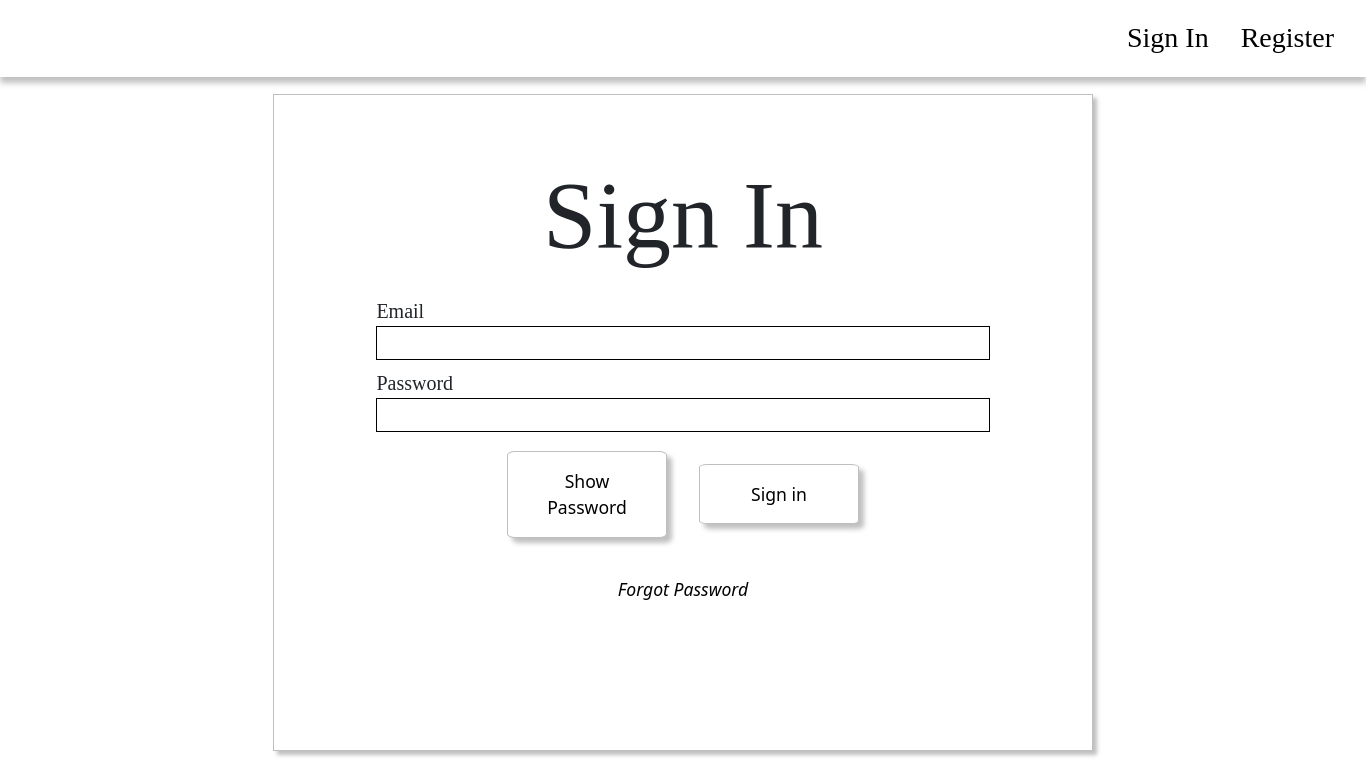
<App /> › Valid Flow 2 => Signing In => Verify That Signing in With A Valid User Takes Us To The Home Page
This screenshot has width=1366, height=768.
Type "test@gmail.com" into the field labelled "Email" at (683, 343), box [376,326,990,360]
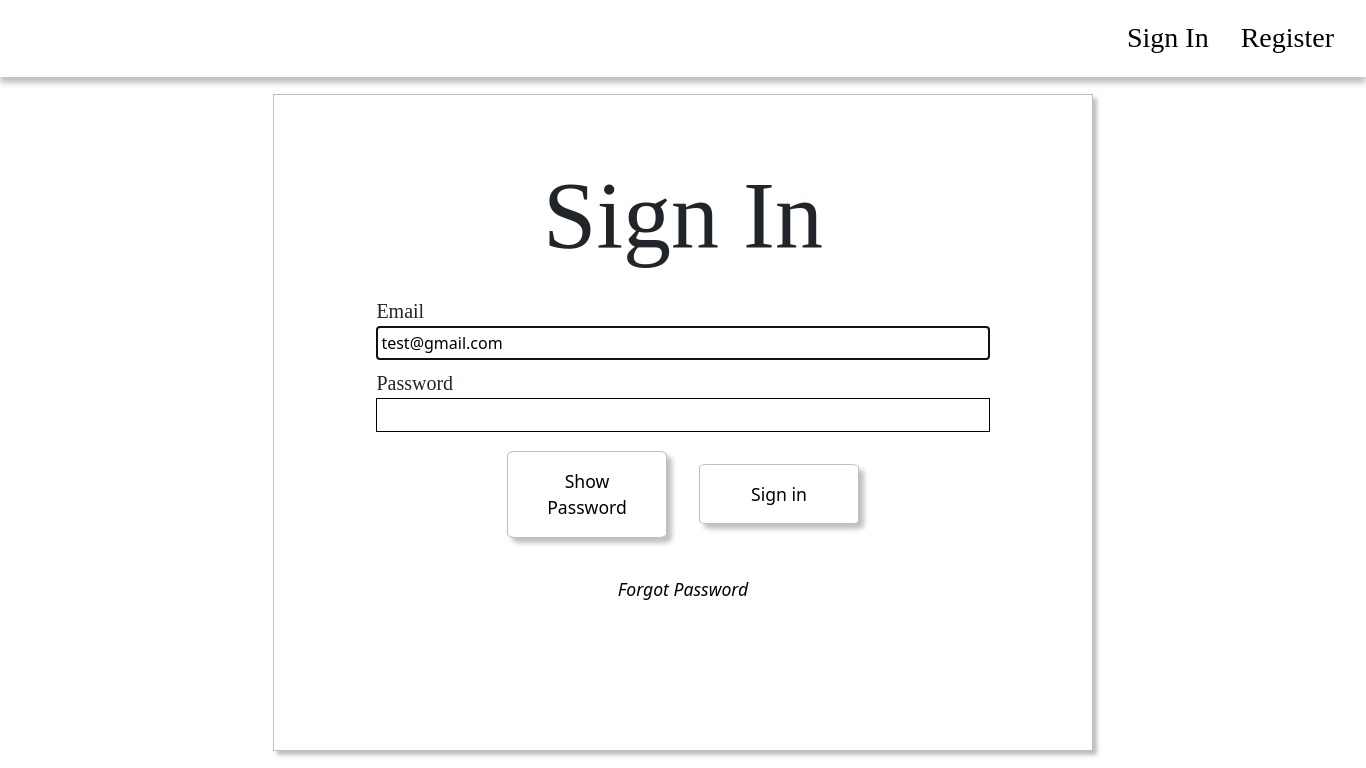
Type "PasswordLong-101!" into the password field at (683, 415), box [376,398,990,432]
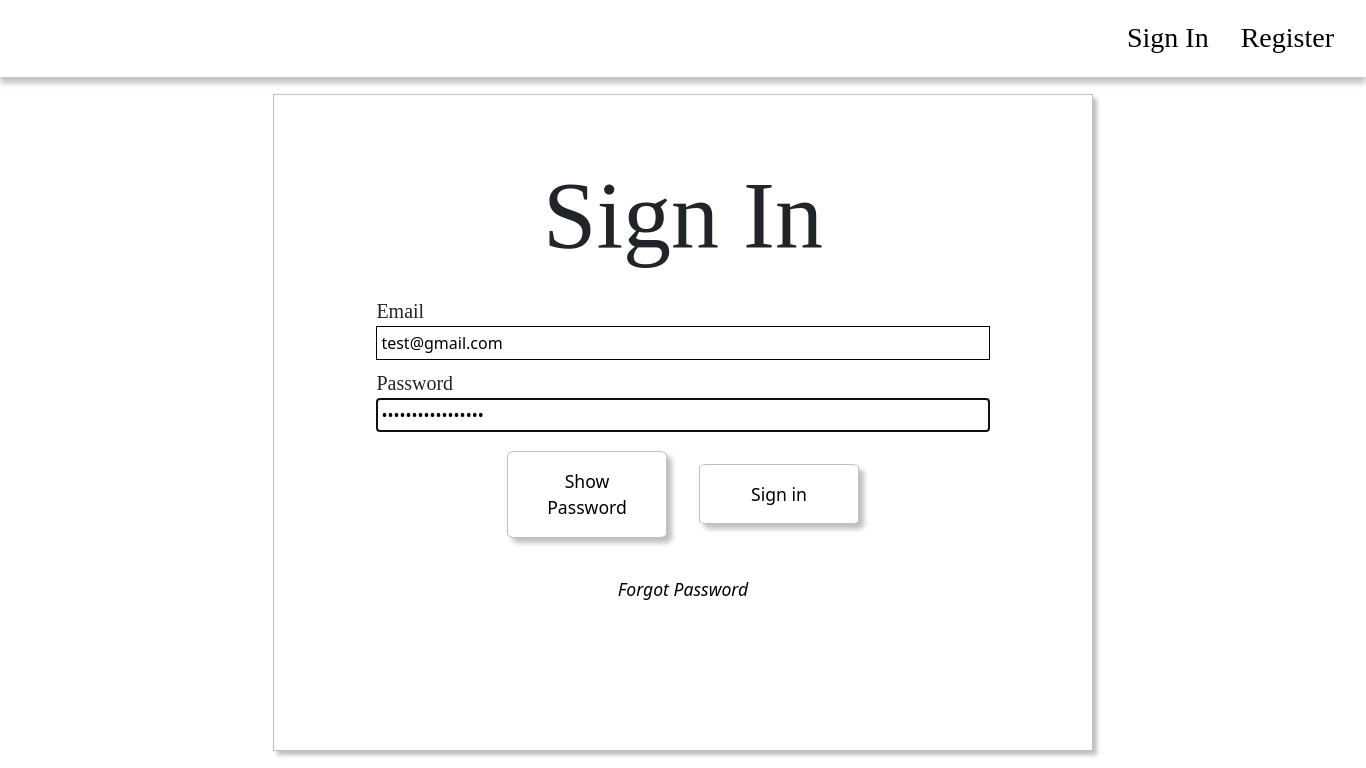
Click the button with aria-label "password_visibility" at (587, 494), box [507,451,667,538]
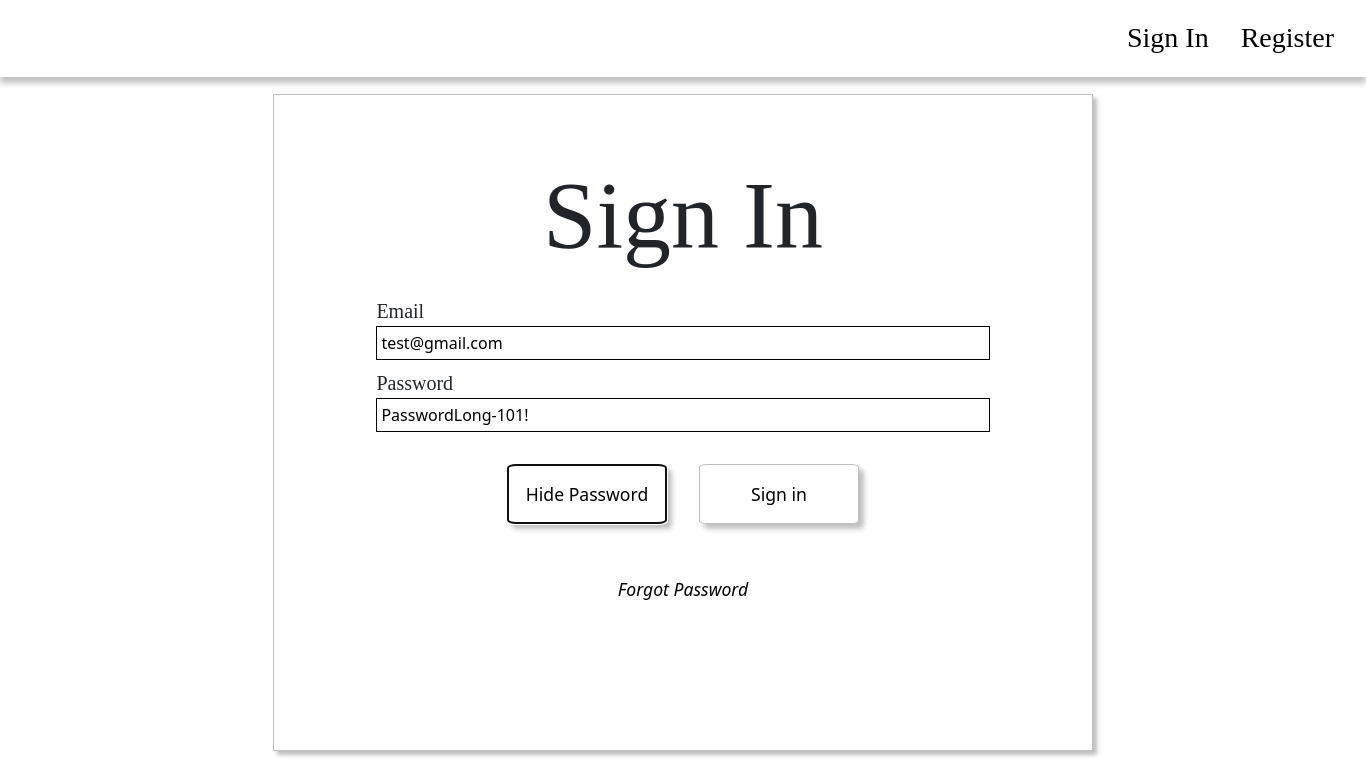
Click the button with aria-label "signin_button" at (779, 494), box [699,464,859,524]
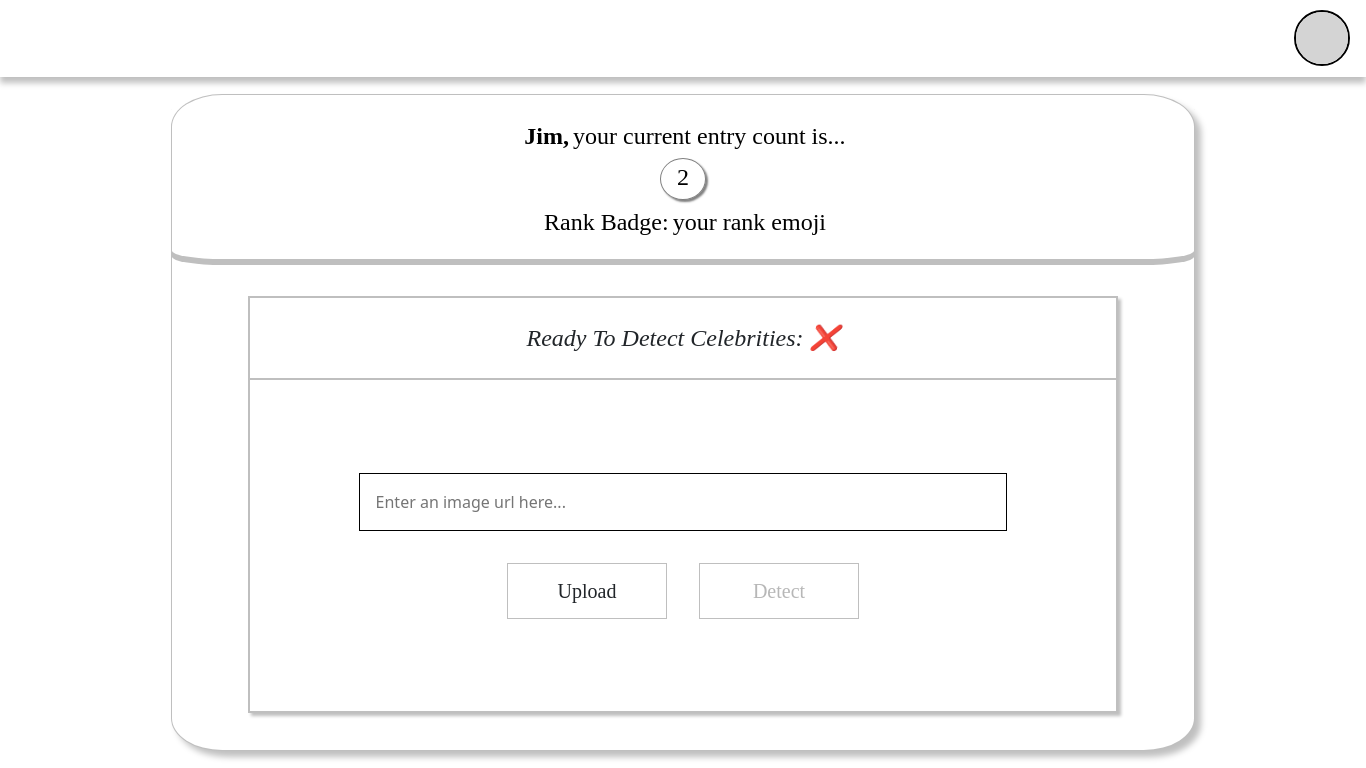
Result: the element named "intro-entry-count" reads "Jim, your current entry count is..." at [520,118,846,154]
Result: the element named "entries-entry-count" reads "2" at [677,164,689,190]
